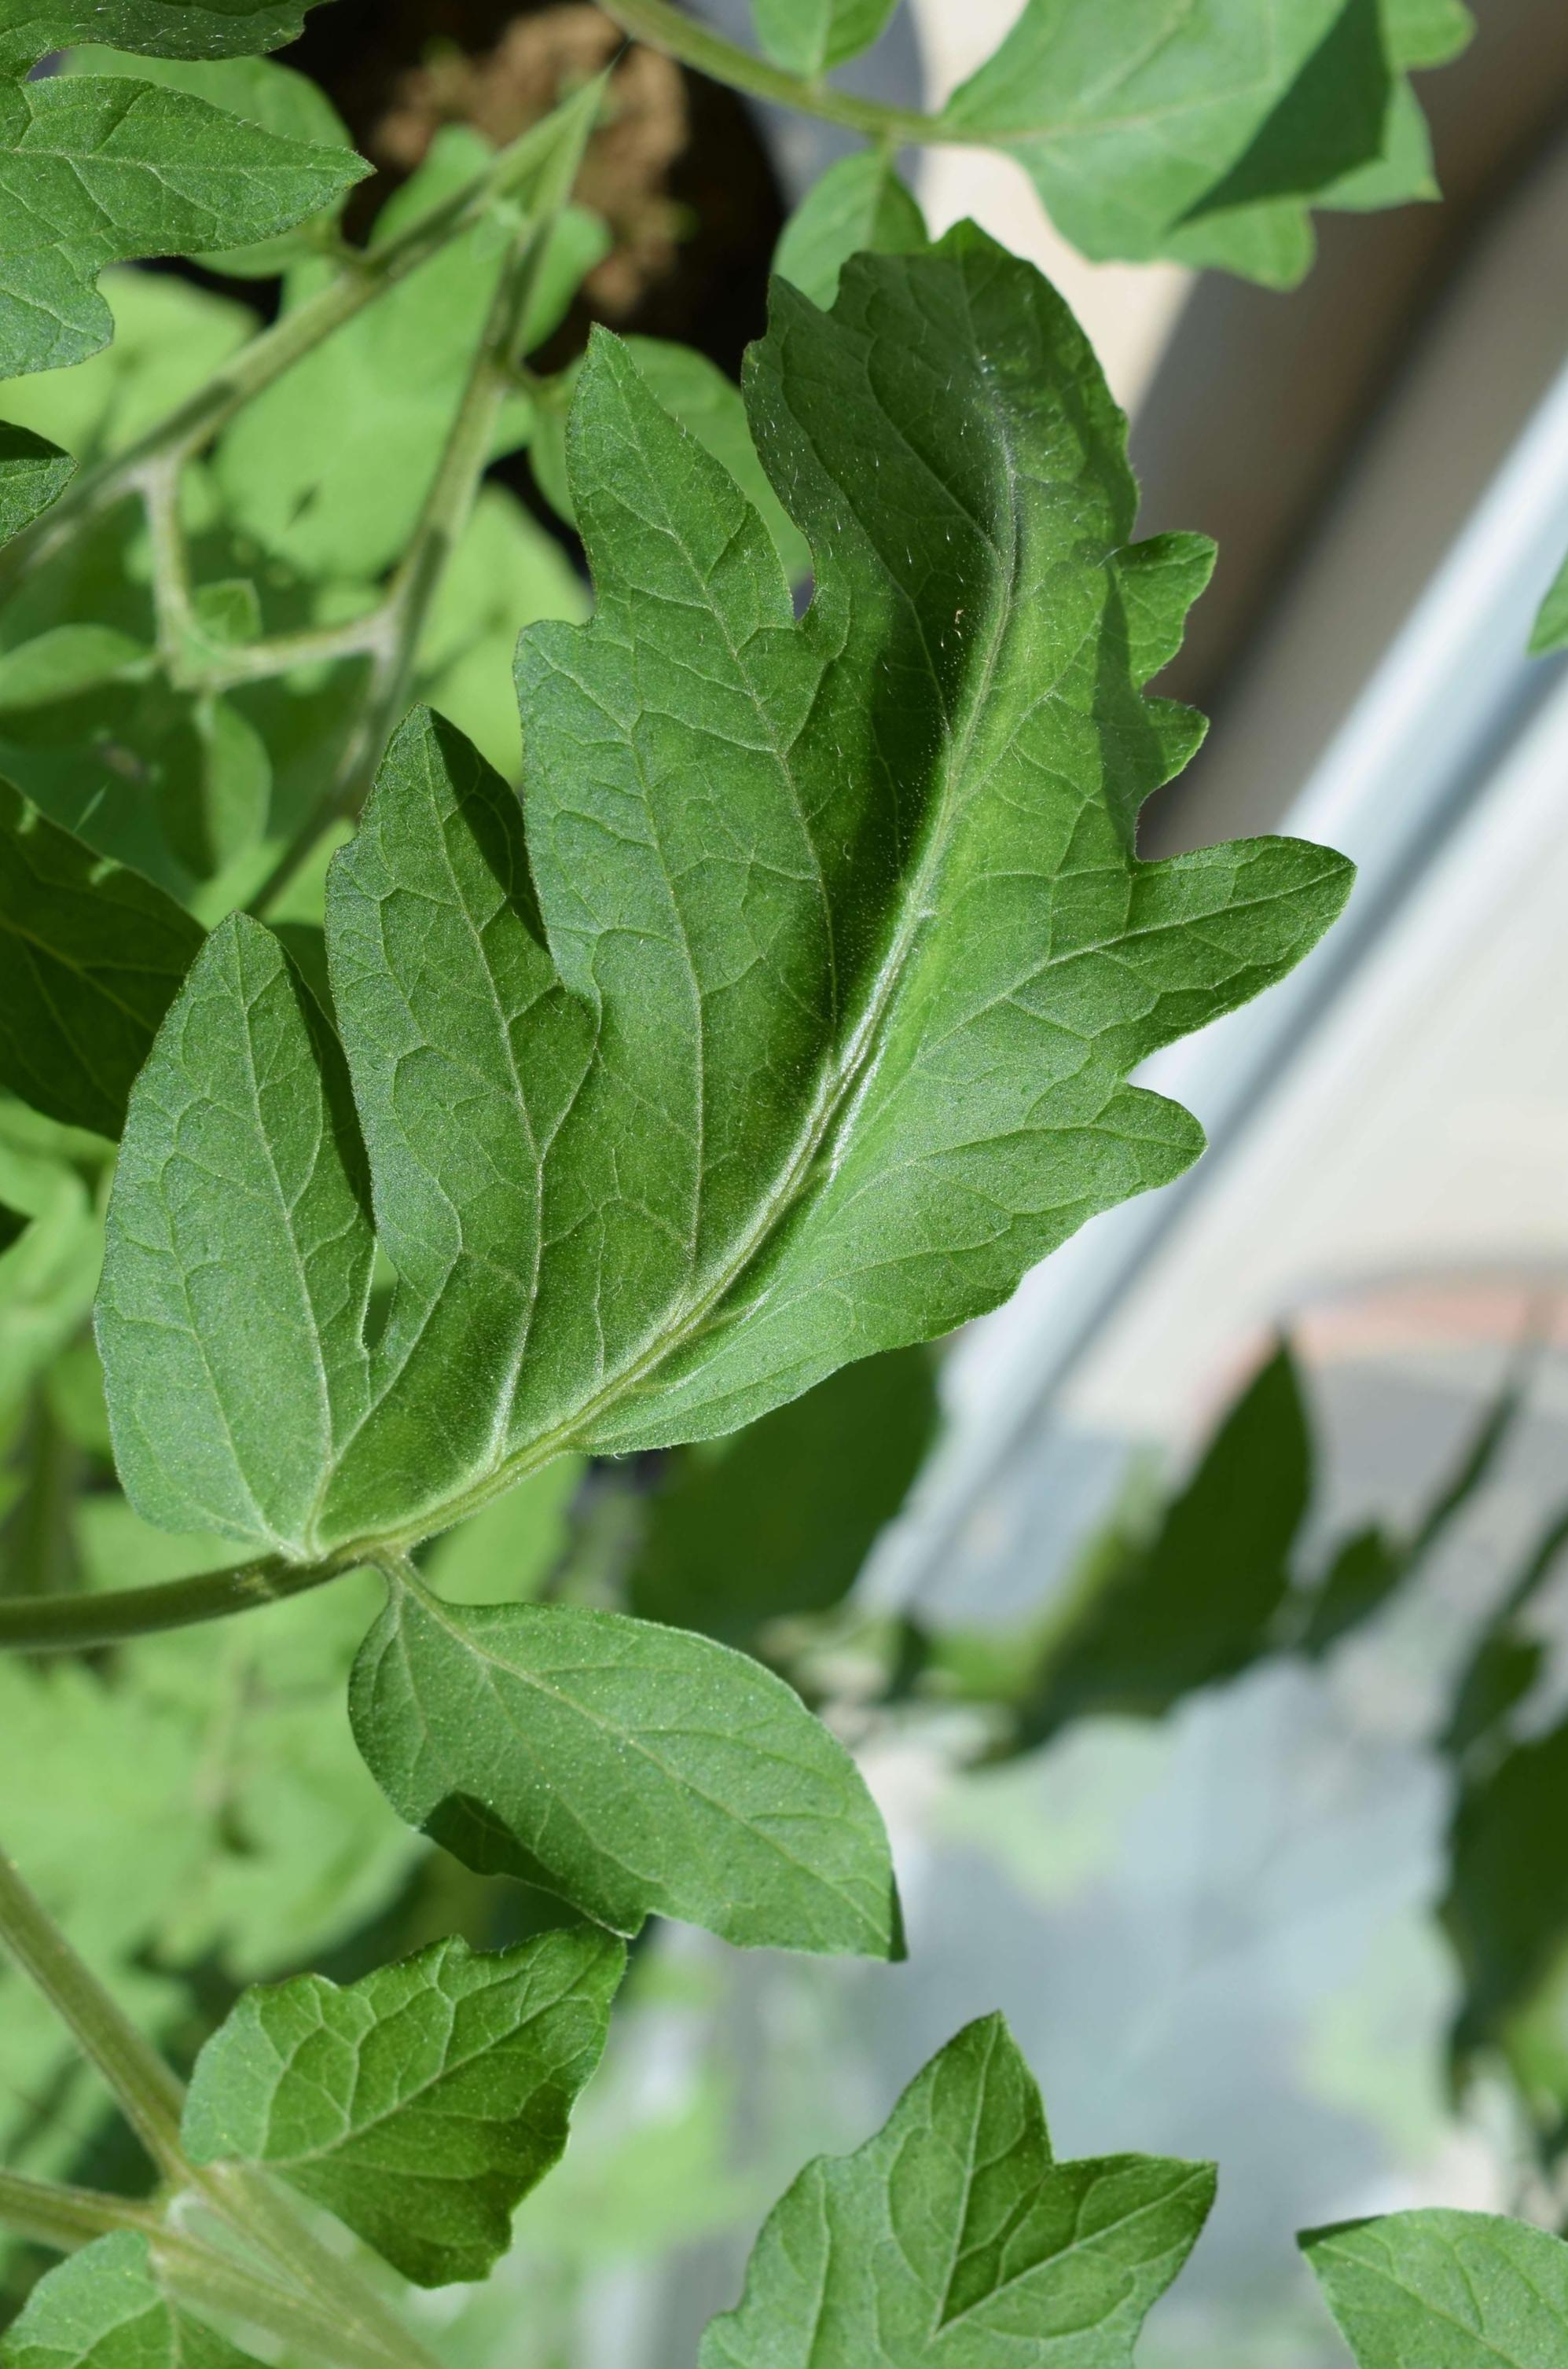Tomato leaf: (0, 10, 1510, 1902), (234, 1401, 990, 2093), (42, 1690, 726, 2369), (548, 1856, 1169, 2369)
